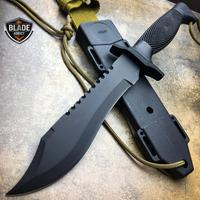knife: (4, 10, 183, 197)
